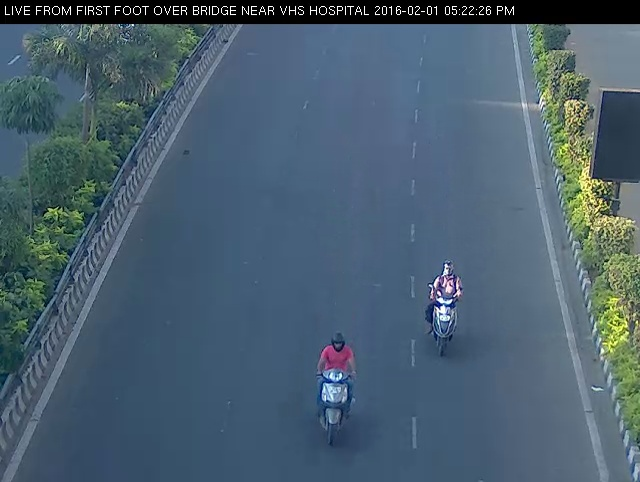Person: (303, 321, 368, 452), (414, 246, 469, 359)
